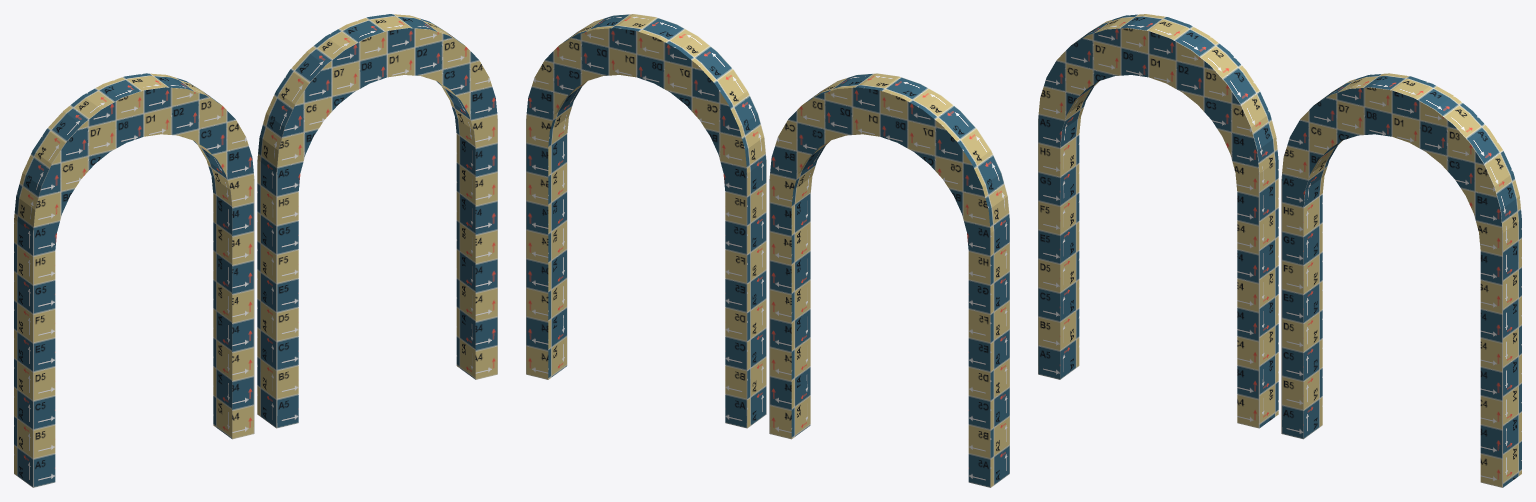
Rendered from ARCH_Double.fbx.
3 views of the same model, side by side, from view 1: azimuth 30°, elevation 25°; view 2: azimuth 150°, elevation 25°; view 3: azimuth 330°, elevation 25° (orthographic).
Visible parts, largest first — view 1: ARCH_Double; view 2: ARCH_Double; view 3: ARCH_Double.
Part boxes in pixels (x1,y1,x2,y2): ARCH_Double: (14,14,497,487); ARCH_Double: (526,14,1009,487); ARCH_Double: (1038,14,1521,487).
Size of the model in its own units: 420 by 320 by 30.
Materials: 1 (1 with a texture image).
